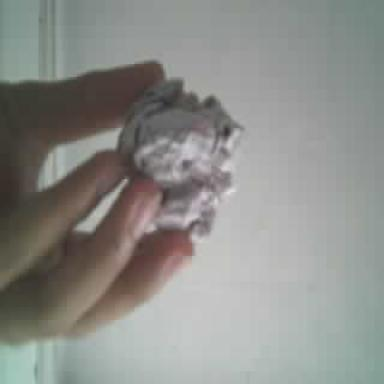paper: (118, 78, 244, 238)
